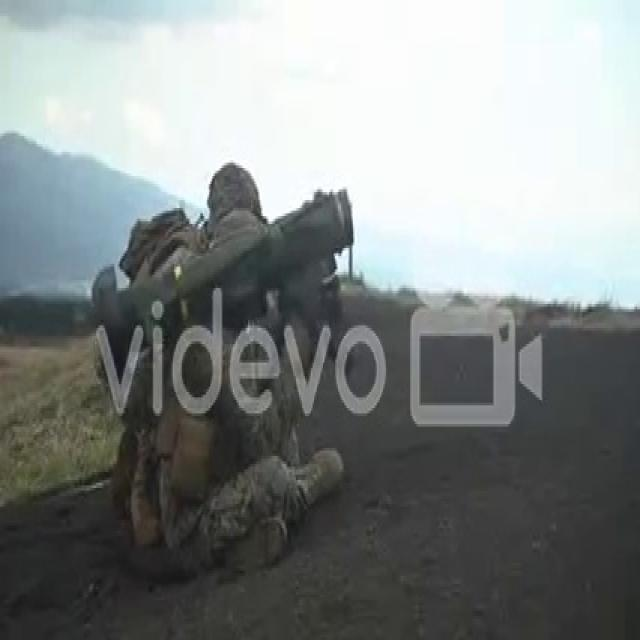bazooka: (88, 174, 358, 396)
